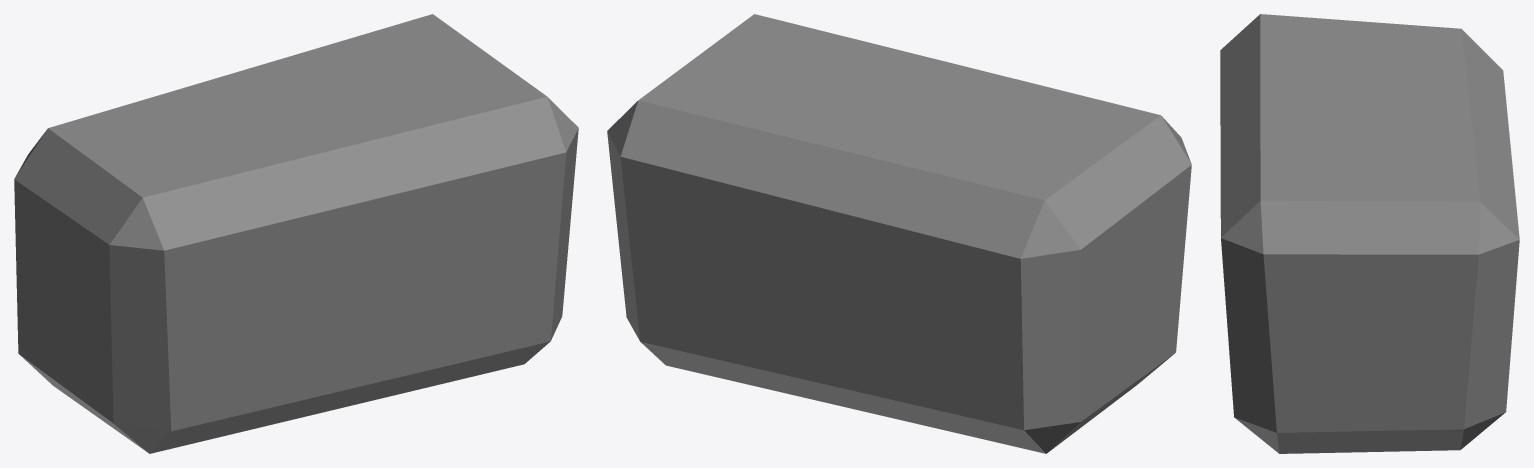
The model's file is Brick_Single_01.fbx.
3 renders of one model, left to right at view 1: azimuth 30°, elevation 25°; view 2: azimuth 150°, elevation 25°; view 3: azimuth 270°, elevation 25°, orthographic. The views are drawn at different scales.
Parts seen in each view (by area): view 1: Brick_Single_01; view 2: Brick_Single_01; view 3: Brick_Single_01.
Part boxes in pixels (x1,y1,x2,y2): Brick_Single_01: [14, 14, 578, 453]; Brick_Single_01: [607, 14, 1191, 453]; Brick_Single_01: [1220, 14, 1519, 453].
Size of the model in its own units: 36.57 by 20.21 by 21.15.
